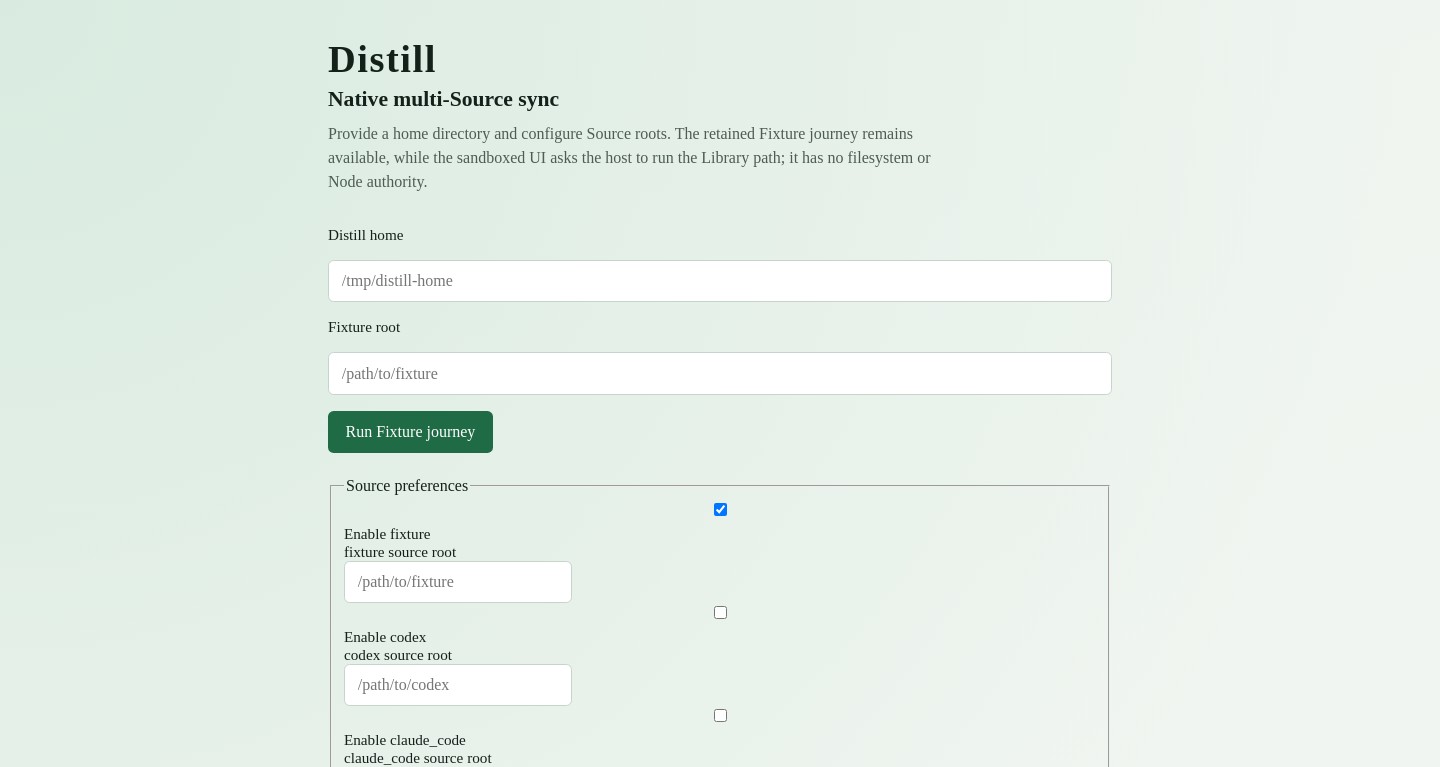
Test: first-run Fixture UI › detects Sources through the bridge and renders per-Source status
Step 1. Type "/tmp/home" into the field labelled "Distill home" → (720, 281), box x1=328 y1=260 x2=1112 y2=302
(page scrolled)
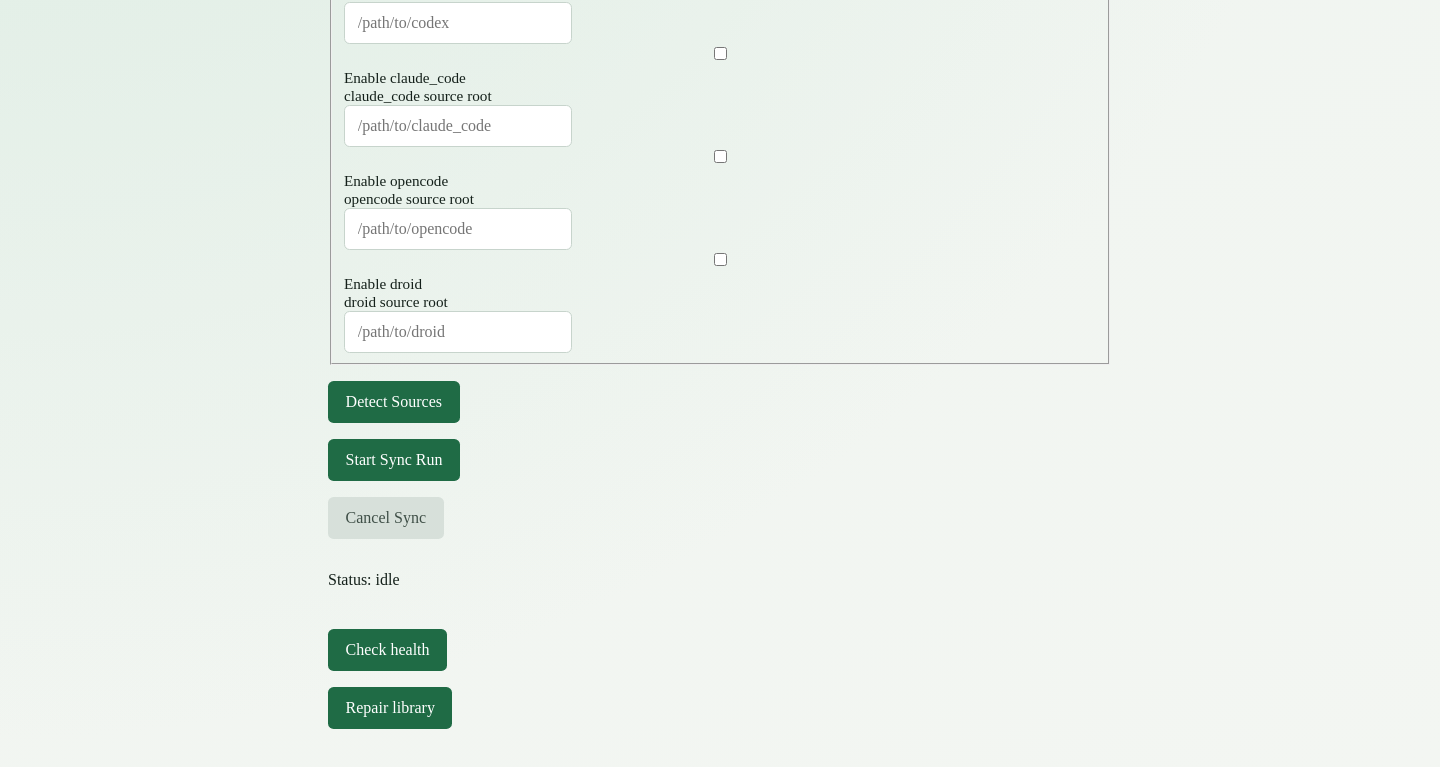
Step 2. Click the button with test id "detect-sources" → (394, 402), box x1=328 y1=381 x2=460 y2=423
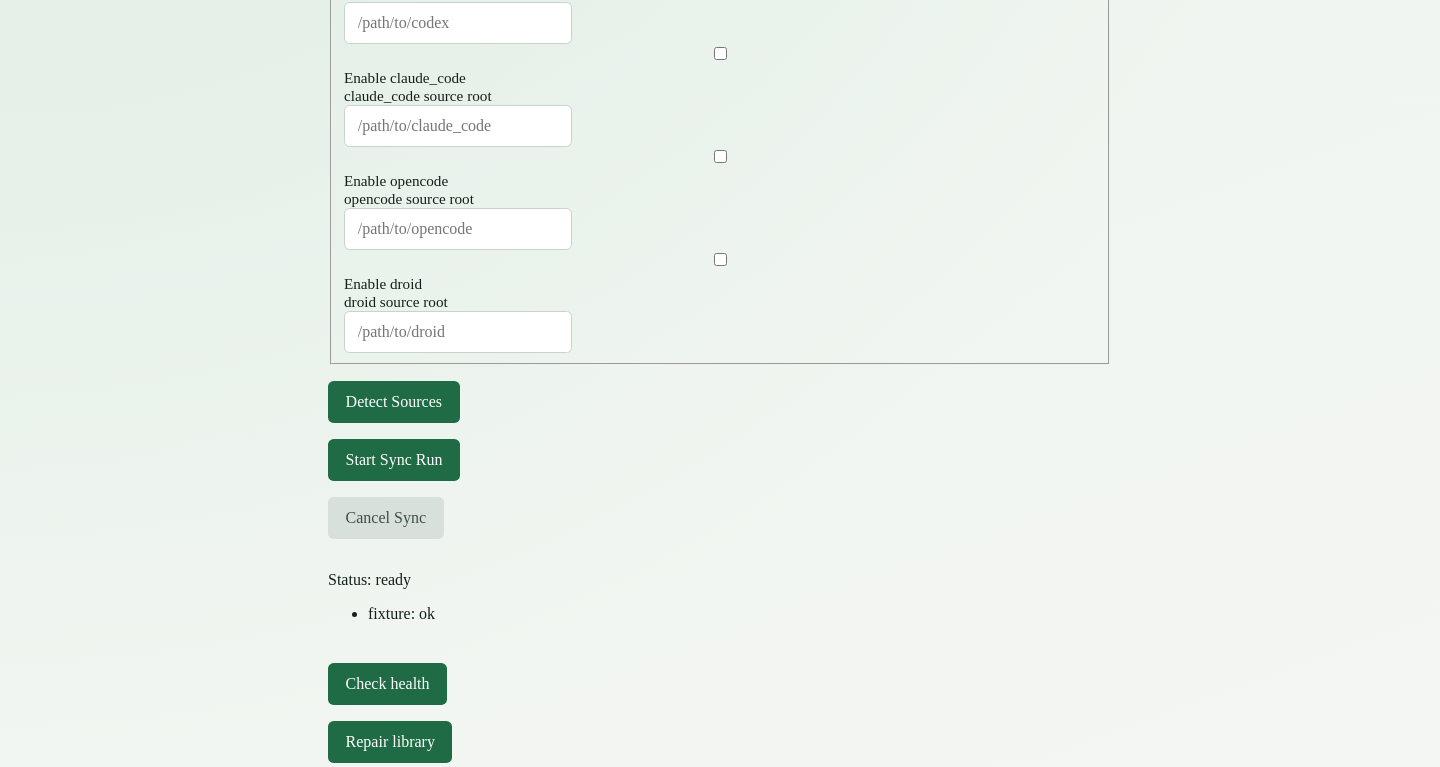
Check: the message with test id "detect-status" shows "ready", box x1=376 y1=571 x2=411 y2=588
Check: the list item with test id "detect-result-fixture" reads "fixture: ok", box x1=368 y1=605 x2=435 y2=622
